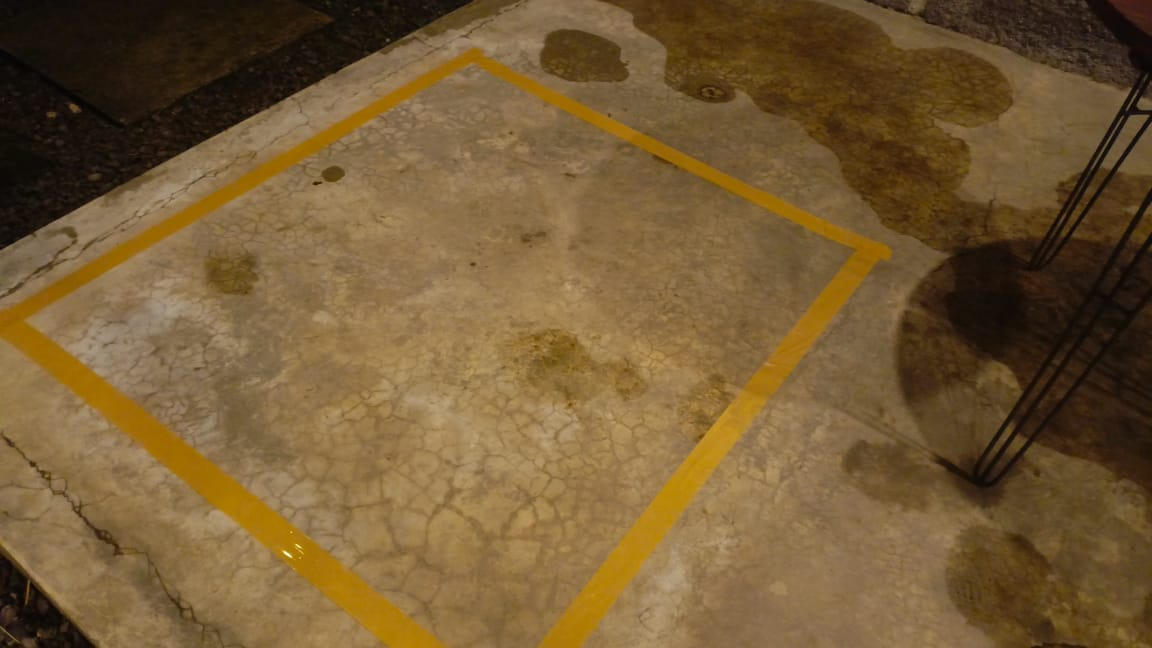floor marking: (0, 49, 890, 647)
